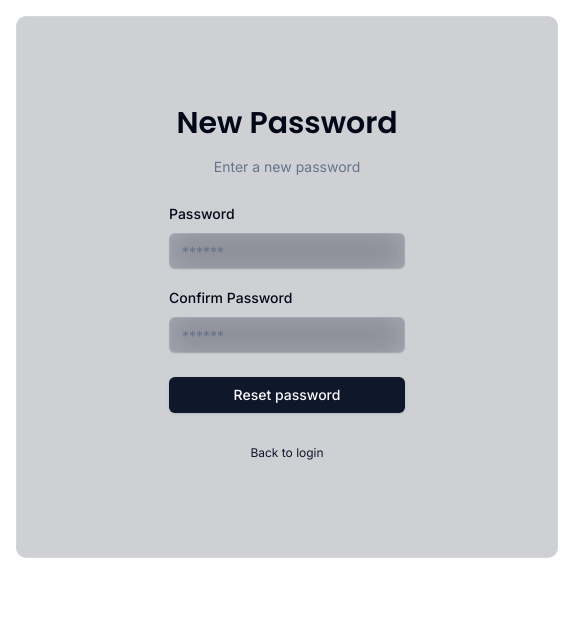
NewPasswordPageView Component › displays error message on invalid token
Type "newPassword123" into the password field labelled "Password" at (287, 251), box [169, 233, 405, 269]
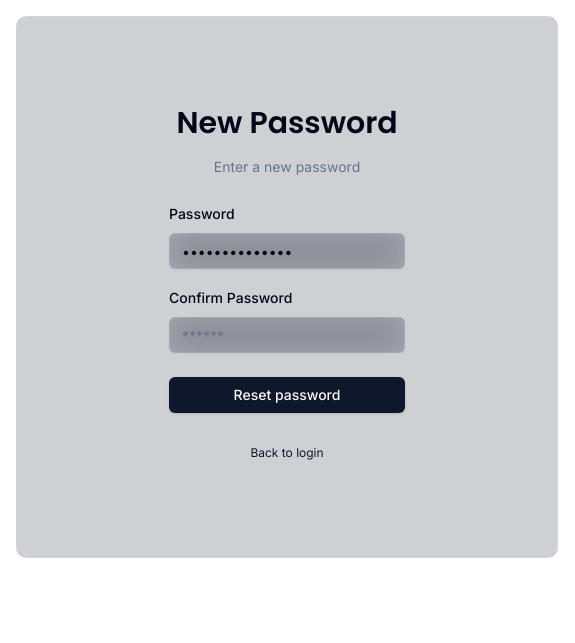
Type "newPassword123" into the password field labelled "Confirm Password" at (287, 335), box [169, 317, 405, 353]
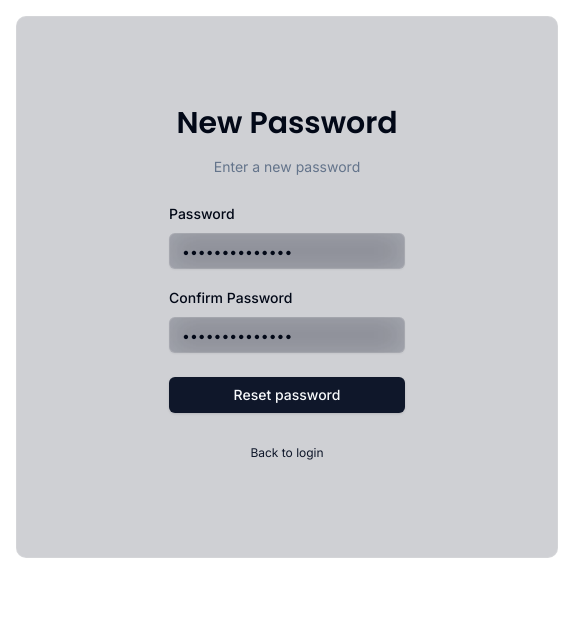
Click the button "Reset password" at (287, 395), box [169, 377, 405, 413]
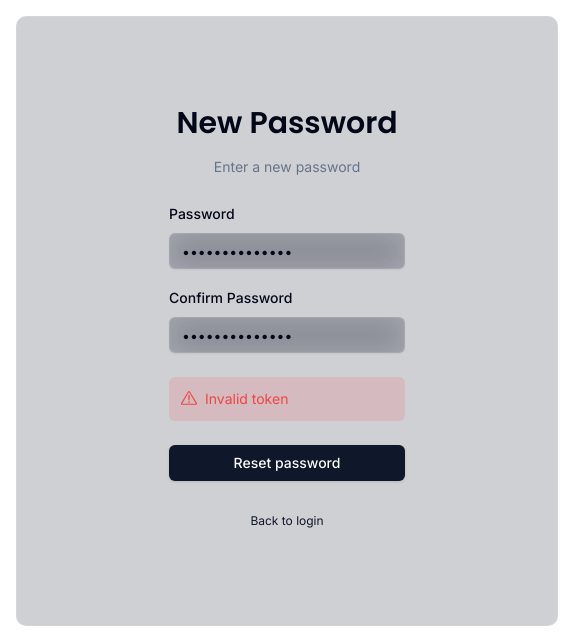
Now the text "Invalid token" is shown, box [205, 389, 288, 409]
